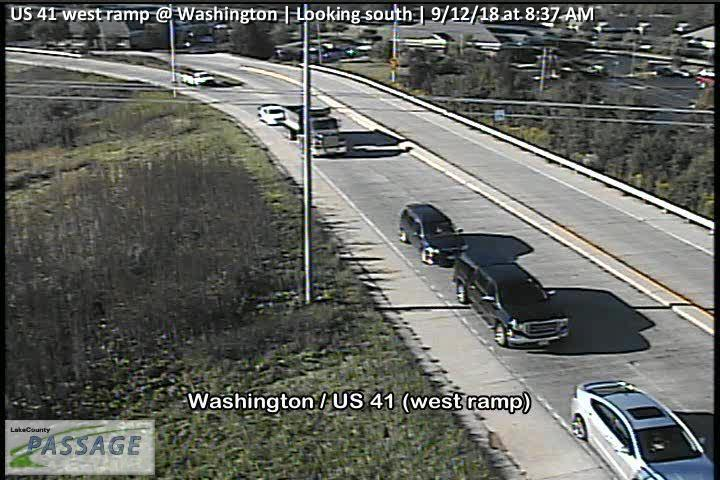Sedan: (568, 377, 717, 480), (451, 250, 574, 347), (398, 203, 460, 265), (255, 101, 288, 125)
Truck: (275, 101, 349, 156)
